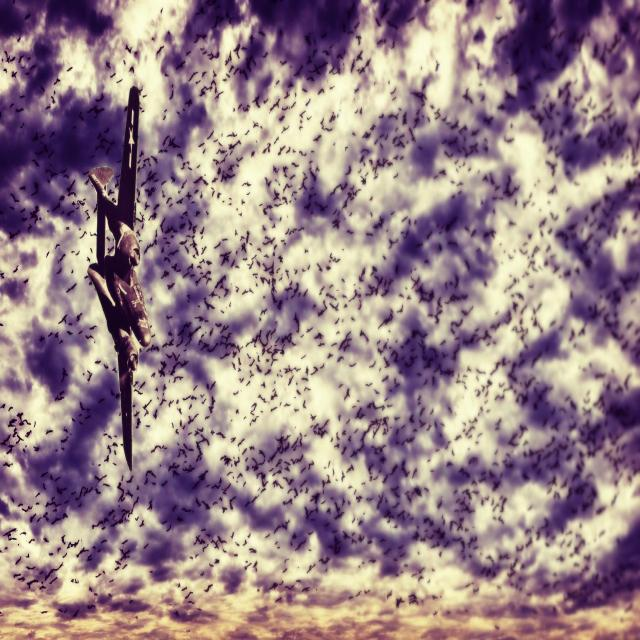airplane: (86, 86, 152, 470)
